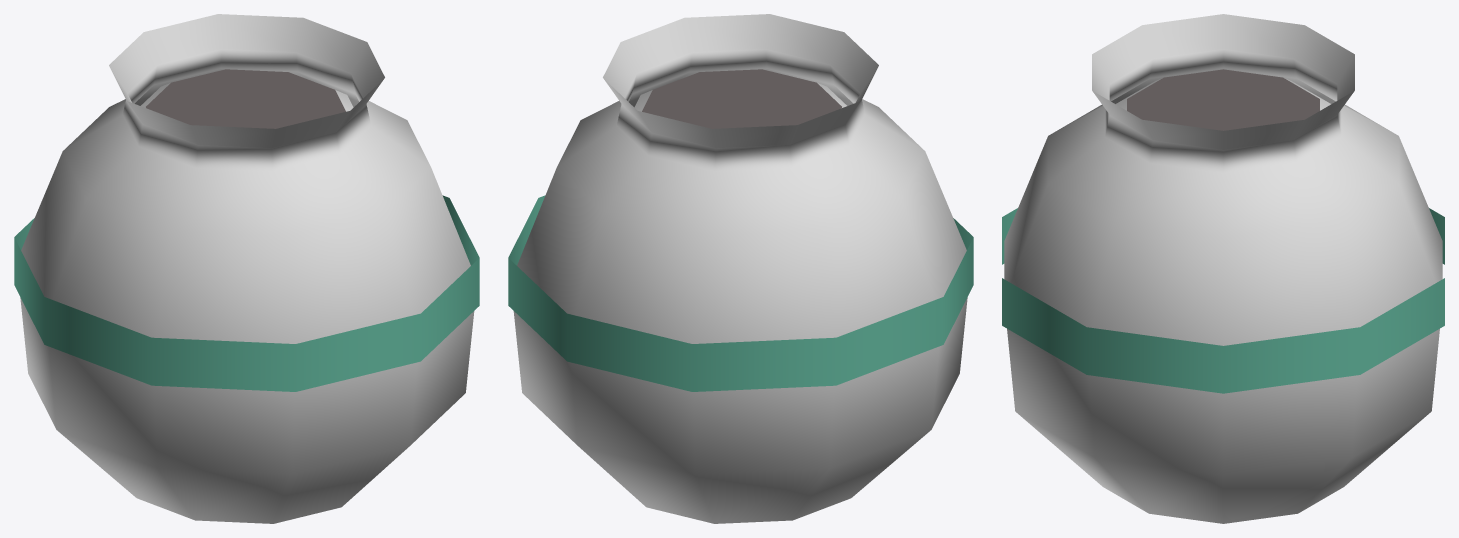
Rendered from prop_jar_a.glb.
3 renders of one model, left to right at view 1: azimuth 30°, elevation 25°; view 2: azimuth 150°, elevation 25°; view 3: azimuth 270°, elevation 25°, orthographic.
Parts seen in each view (by area): view 1: prop_jar_a; view 2: prop_jar_a; view 3: prop_jar_a.
Boxes of the visible parts, x1,y1,x2,y2 form: prop_jar_a: (14, 14, 479, 523); prop_jar_a: (508, 14, 973, 523); prop_jar_a: (1002, 14, 1444, 523).
Size of the model in its own units: 0.8484 by 0.8 by 0.8069.
